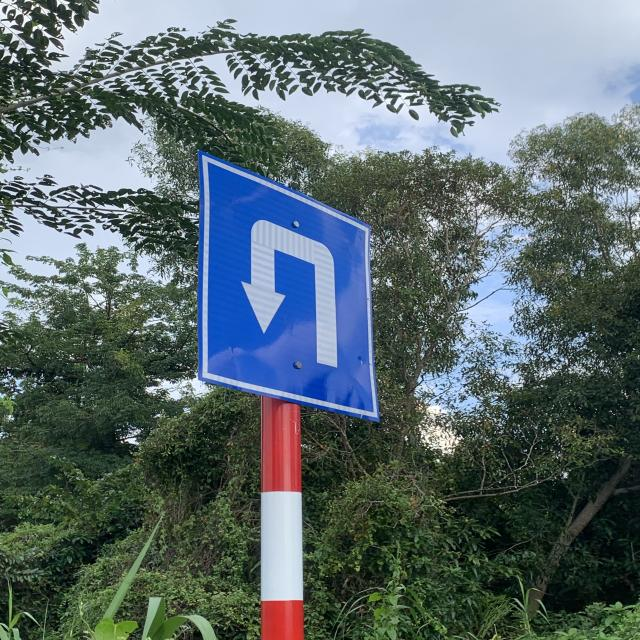Den_Giao_Thong: (203, 159, 377, 416)
